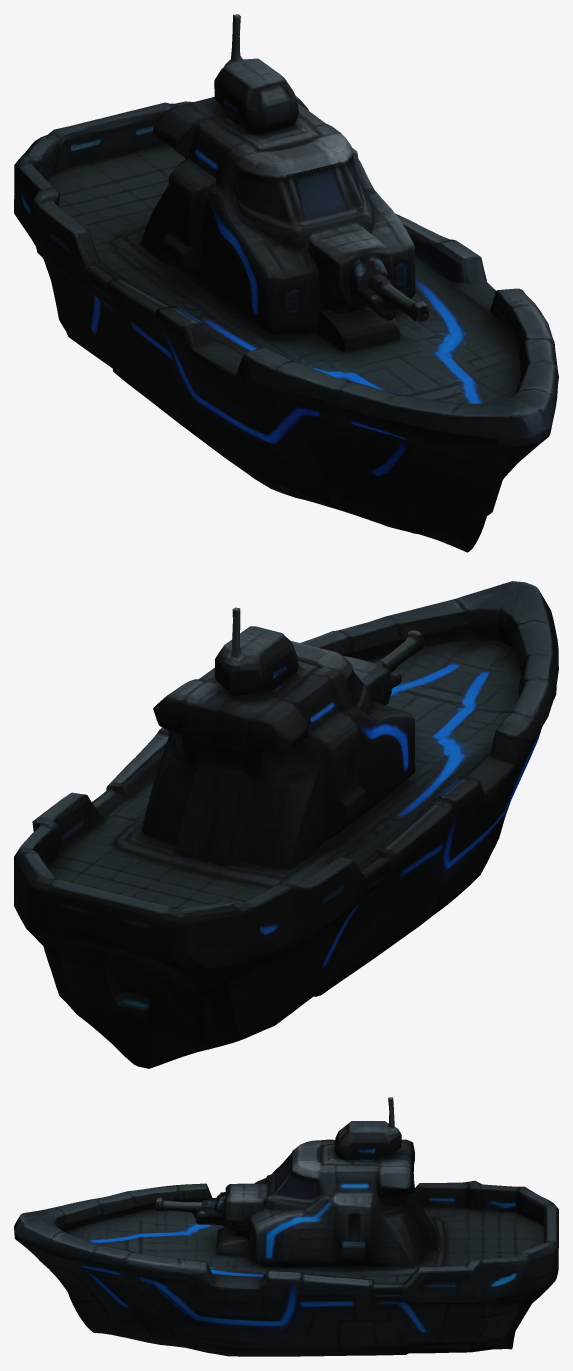
File: ShipEnemy.glb
The picture shows the model from 3 angles, top to bottom: view 1: azimuth 30°, elevation 25°; view 2: azimuth 150°, elevation 25°; view 3: azimuth 270°, elevation 25°; orthographic projection. The views are drawn at different scales.
Parts seen in each view (by area): view 1: EnemyShip; view 2: EnemyShip; view 3: EnemyShip.
Boxes of the visible parts, x1,y1,x2,y2 form: EnemyShip: (14,14,558,552); EnemyShip: (14,581,558,1068); EnemyShip: (14,1097,558,1356).
Bounding box in the file's own units: 0.4051 × 0.5127 × 1.
1 material, 1 textured.
